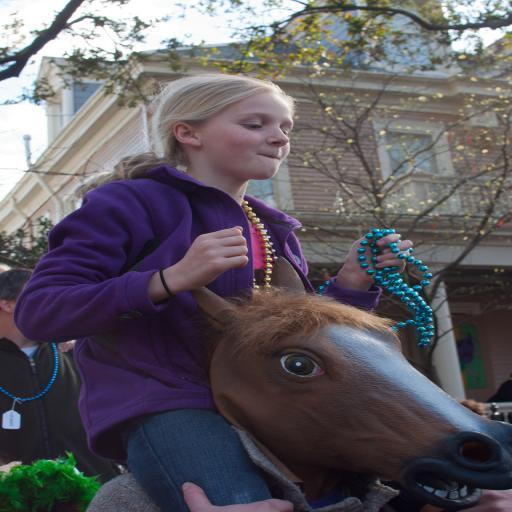Horse: (190, 286, 512, 510)
